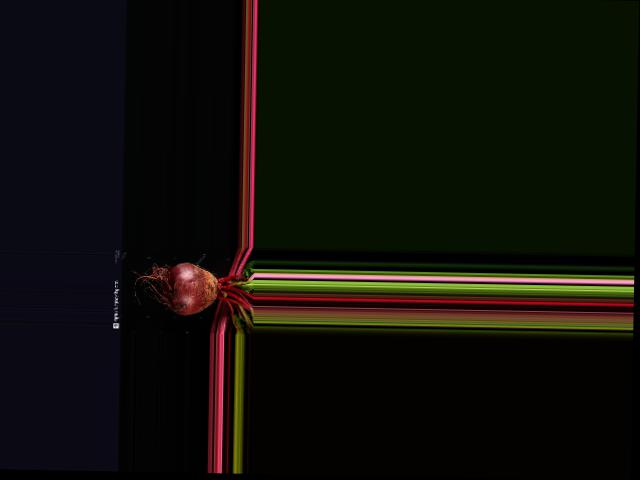beet: (127, 260, 254, 334)
